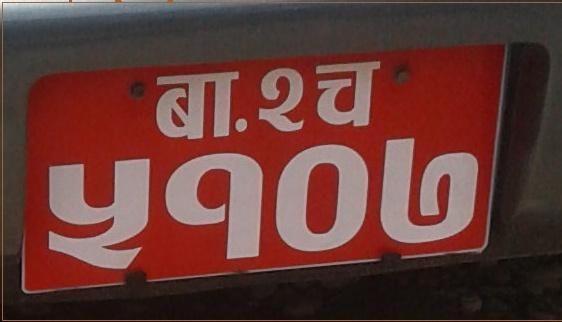0: (272, 140, 371, 255)
1: (160, 149, 267, 266)
2: (253, 66, 311, 136)
5: (41, 154, 153, 275)
7: (379, 134, 480, 244)
ba: (150, 70, 249, 145)
cha: (313, 59, 383, 129)
